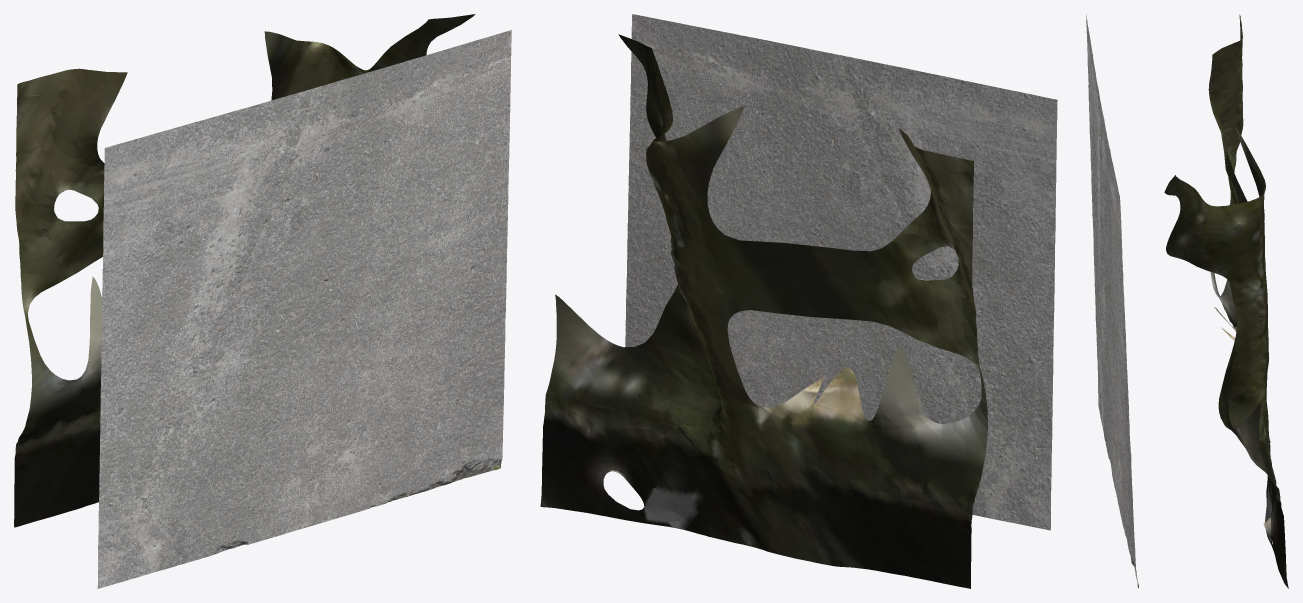
Rendered from Tile_+004_+003.obj.
The picture shows the model from 3 angles, left to right: view 1: azimuth 30°, elevation 25°; view 2: azimuth 150°, elevation 25°; view 3: azimuth 270°, elevation 25°; orthographic projection. The views are drawn at different scales.
Size of the model in its own units: 3.03 by 3.03 by 1.42.
1 material, 1 textured.
